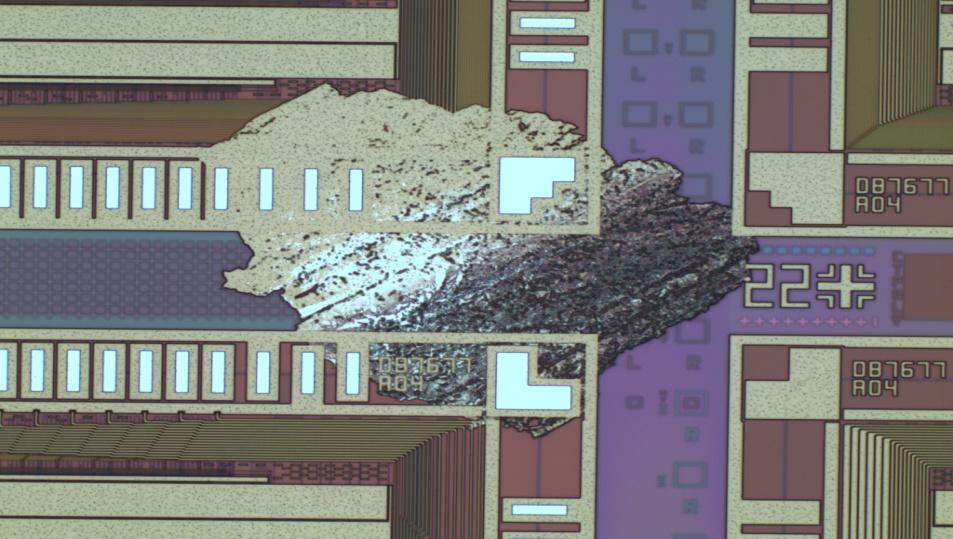BLOCK ETCH: (192, 83, 767, 441)
